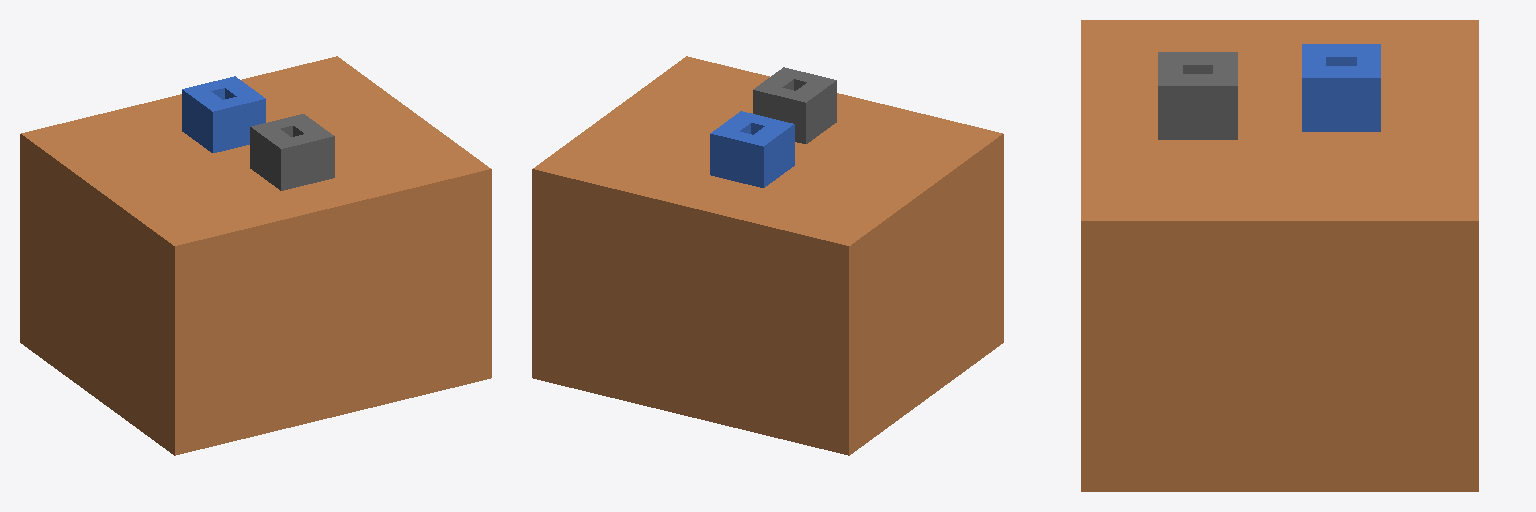
The robot description file, URDF, robot "peg_in_hole_fixtured_scene_0015_peg0000_tol00":
<?xml version="1.0"?>
<robot name="peg_in_hole_fixtured_scene_0015_peg0000_tol00">
  <material name="wood"><color rgba="0.82 0.56 0.35 1.0"/></material>
  <material name="start_fix"><color rgba="0.30 0.50 0.85 1.0"/></material>
  <material name="goal_fix"><color rgba="0.4706 0.4706 0.4706 1.0"/></material>
  <link name="box">
    <visual>
      <origin xyz="0.000000 0.000000 0.000000" rpy="0 0 0"/>
      <geometry><box size="0.475000 0.400000 0.300000"/></geometry>
      <material name="wood"/>
    </visual>
    <collision>
      <origin xyz="0.000000 0.000000 0.000000" rpy="0 0 0"/>
      <geometry><box size="0.475000 0.400000 0.300000"/></geometry>
    </collision>
    <visual>
      <origin xyz="-0.012289 0.061706 0.155000" rpy="0 0 0"/>
      <geometry><box size="0.080000 0.080000 0.010000"/></geometry>
      <material name="start_fix"/>
    </visual>
    <collision>
      <origin xyz="-0.012289 0.061706 0.155000" rpy="0 0 0"/>
      <geometry><box size="0.080000 0.080000 0.010000"/></geometry>
    </collision>
    <visual>
      <origin xyz="0.012961 0.061706 0.185000" rpy="0 0 0"/>
      <geometry><box size="0.029500 0.080000 0.050000"/></geometry>
      <material name="start_fix"/>
    </visual>
    <collision>
      <origin xyz="0.012961 0.061706 0.185000" rpy="0 0 0"/>
      <geometry><box size="0.029500 0.080000 0.050000"/></geometry>
    </collision>
    <visual>
      <origin xyz="-0.037539 0.061706 0.185000" rpy="0 0 0"/>
      <geometry><box size="0.029500 0.080000 0.050000"/></geometry>
      <material name="start_fix"/>
    </visual>
    <collision>
      <origin xyz="-0.037539 0.061706 0.185000" rpy="0 0 0"/>
      <geometry><box size="0.029500 0.080000 0.050000"/></geometry>
    </collision>
    <visual>
      <origin xyz="-0.012289 0.089456 0.185000" rpy="0 0 0"/>
      <geometry><box size="0.021000 0.024500 0.050000"/></geometry>
      <material name="start_fix"/>
    </visual>
    <collision>
      <origin xyz="-0.012289 0.089456 0.185000" rpy="0 0 0"/>
      <geometry><box size="0.021000 0.024500 0.050000"/></geometry>
    </collision>
    <visual>
      <origin xyz="-0.012289 0.033956 0.185000" rpy="0 0 0"/>
      <geometry><box size="0.021000 0.024500 0.050000"/></geometry>
      <material name="start_fix"/>
    </visual>
    <collision>
      <origin xyz="-0.012289 0.033956 0.185000" rpy="0 0 0"/>
      <geometry><box size="0.021000 0.024500 0.050000"/></geometry>
    </collision>
    <visual>
      <origin xyz="0.007144 -0.082432 0.155000" rpy="0 0 0"/>
      <geometry><box size="0.080000 0.080000 0.010000"/></geometry>
      <material name="goal_fix"/>
    </visual>
    <collision>
      <origin xyz="0.007144 -0.082432 0.155000" rpy="0 0 0"/>
      <geometry><box size="0.080000 0.080000 0.010000"/></geometry>
    </collision>
    <visual>
      <origin xyz="0.032243 -0.082432 0.185000" rpy="0 0 0"/>
      <geometry><box size="0.029802 0.080000 0.050000"/></geometry>
      <material name="goal_fix"/>
    </visual>
    <collision>
      <origin xyz="0.032243 -0.082432 0.185000" rpy="0 0 0"/>
      <geometry><box size="0.029802 0.080000 0.050000"/></geometry>
    </collision>
    <visual>
      <origin xyz="-0.017956 -0.082432 0.185000" rpy="0 0 0"/>
      <geometry><box size="0.029802 0.080000 0.050000"/></geometry>
      <material name="goal_fix"/>
    </visual>
    <collision>
      <origin xyz="-0.017956 -0.082432 0.185000" rpy="0 0 0"/>
      <geometry><box size="0.029802 0.080000 0.050000"/></geometry>
    </collision>
    <visual>
      <origin xyz="0.007144 -0.054833 0.185000" rpy="0 0 0"/>
      <geometry><box size="0.020397 0.024802 0.050000"/></geometry>
      <material name="goal_fix"/>
    </visual>
    <collision>
      <origin xyz="0.007144 -0.054833 0.185000" rpy="0 0 0"/>
      <geometry><box size="0.020397 0.024802 0.050000"/></geometry>
    </collision>
    <visual>
      <origin xyz="0.007144 -0.110031 0.185000" rpy="0 0 0"/>
      <geometry><box size="0.020397 0.024802 0.050000"/></geometry>
      <material name="goal_fix"/>
    </visual>
    <collision>
      <origin xyz="0.007144 -0.110031 0.185000" rpy="0 0 0"/>
      <geometry><box size="0.020397 0.024802 0.050000"/></geometry>
    </collision>
    <inertial>
      <mass value="500"/>
      <friction value="1.0"/>
      <inertia ixx="1000.0" ixy="0.0" ixz="0.0" iyy="1000.0" iyz="0.0" izz="1000.0"/>
    </inertial>
  </link>
</robot>

--- Render facts (derived) ---
The picture shows the robot from 3 angles, left to right: view 1: azimuth 30°, elevation 25°; view 2: azimuth 150°, elevation 25°; view 3: azimuth 270°, elevation 25°; orthographic projection.
Model peg_in_hole_fixtured_scene_0015_peg0000_tol00 with 1 links and 0 joints (none), rooted at box, posed all joints at 0.
Links seen in each view (by area): view 1: box; view 2: box; view 3: box.
Boxes of the visible links, <box> form: box: <box>20,56,491,455</box>; box: <box>532,56,1003,455</box>; box: <box>1081,20,1478,491</box>.
Bounding box of the posed robot: 0.475 × 0.4 × 0.36 m (x, y, z).
Geometry: primitives only (box / cylinder / sphere), no mesh files.
